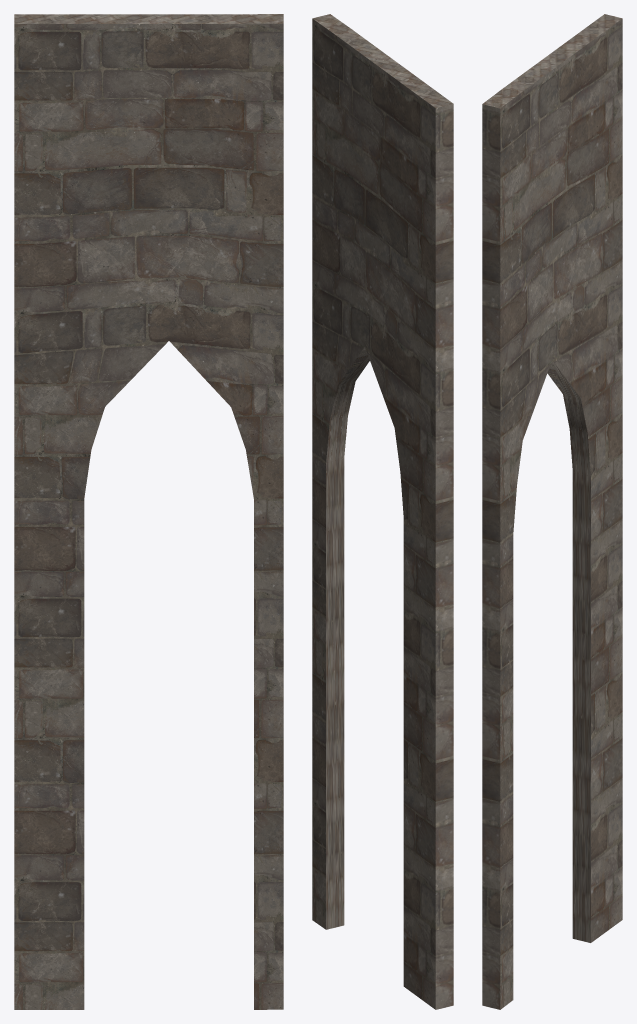
File: SM_ArchCeiling_04d.fbx
3 renders of one model, left to right at view 1: azimuth 30°, elevation 25°; view 2: azimuth 150°, elevation 25°; view 3: azimuth 270°, elevation 25°, orthographic. The views are drawn at different scales.
Parts seen in each view (by area): view 1: SM_ArchCeiling_04d; view 2: SM_ArchCeiling_04d; view 3: SM_ArchCeiling_04d.
Part boxes in pixels (left/top/right/bottom): SM_ArchCeiling_04d: left=14, top=14, right=283, bottom=1009; SM_ArchCeiling_04d: left=312, top=14, right=453, bottom=1009; SM_ArchCeiling_04d: left=482, top=14, right=622, bottom=1009.
Size of the model in its own units: 1072 by 4764 by 673.
Materials: 1 (1 with a texture image).
